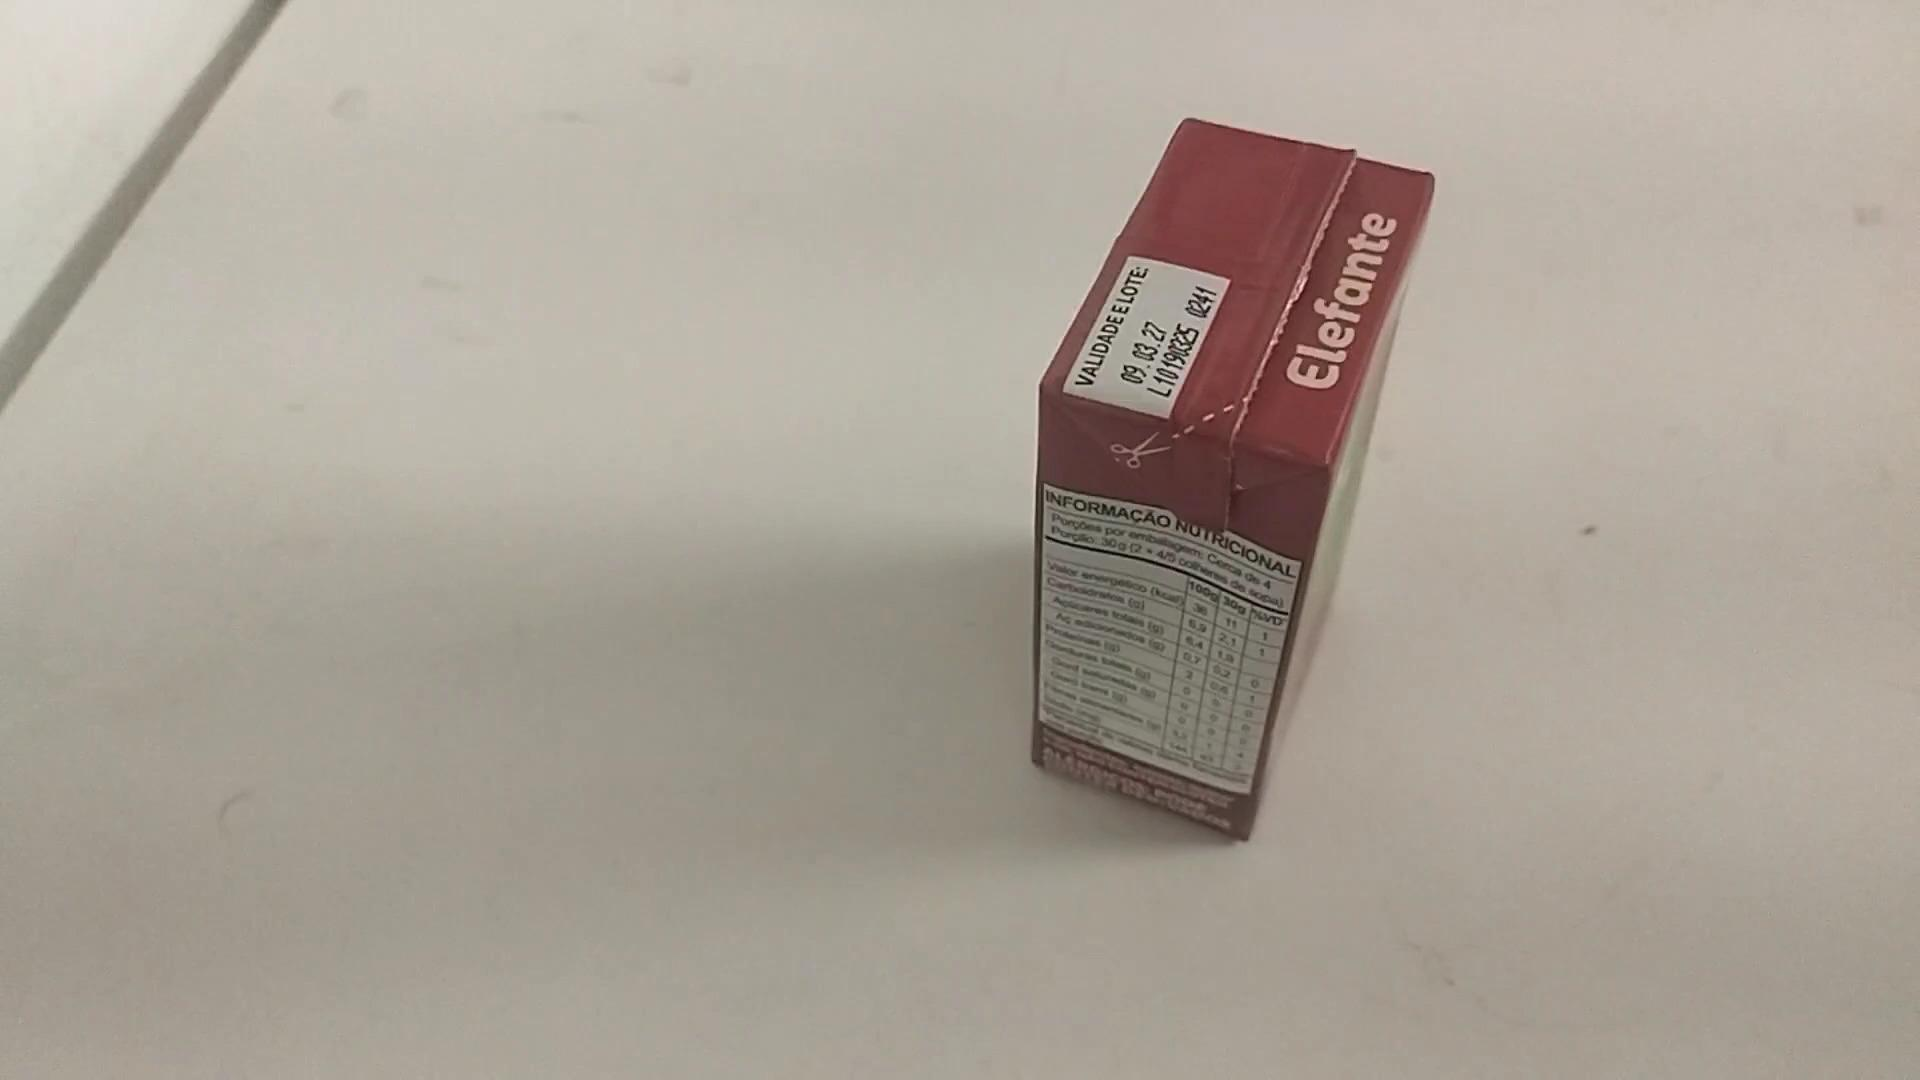tomate: (1010, 104, 1445, 841)
